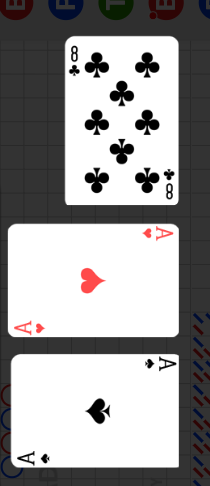8C: (68, 44, 82, 79)
AH: (140, 226, 175, 243)
AS: (16, 449, 54, 466)
